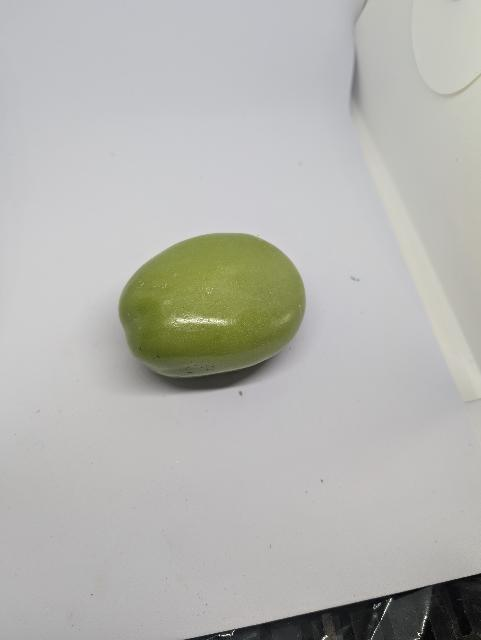green: (108, 227, 328, 391)
